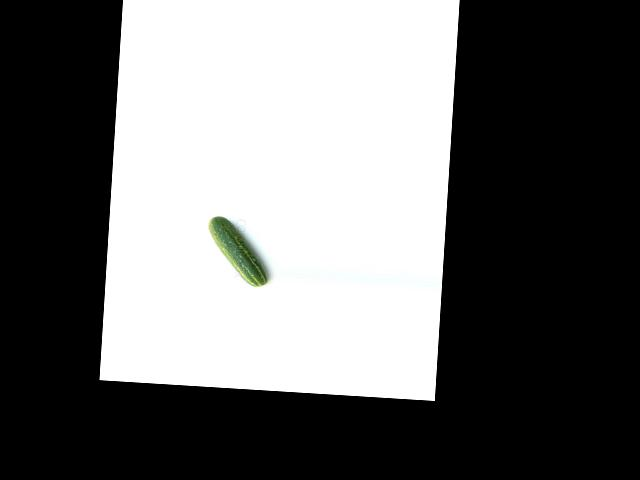cucumber: (204, 216, 271, 288)
